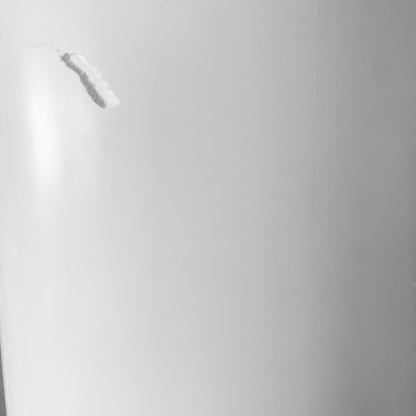sunshang: (59, 45, 123, 108)
